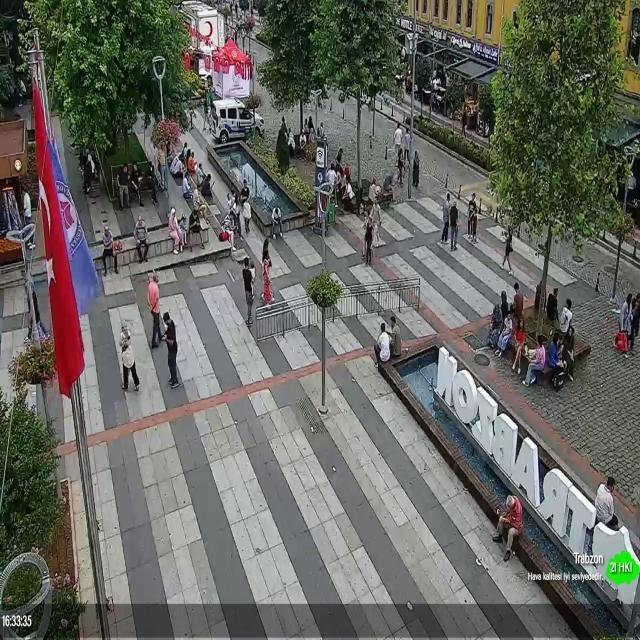Van: (208, 96, 266, 144)
